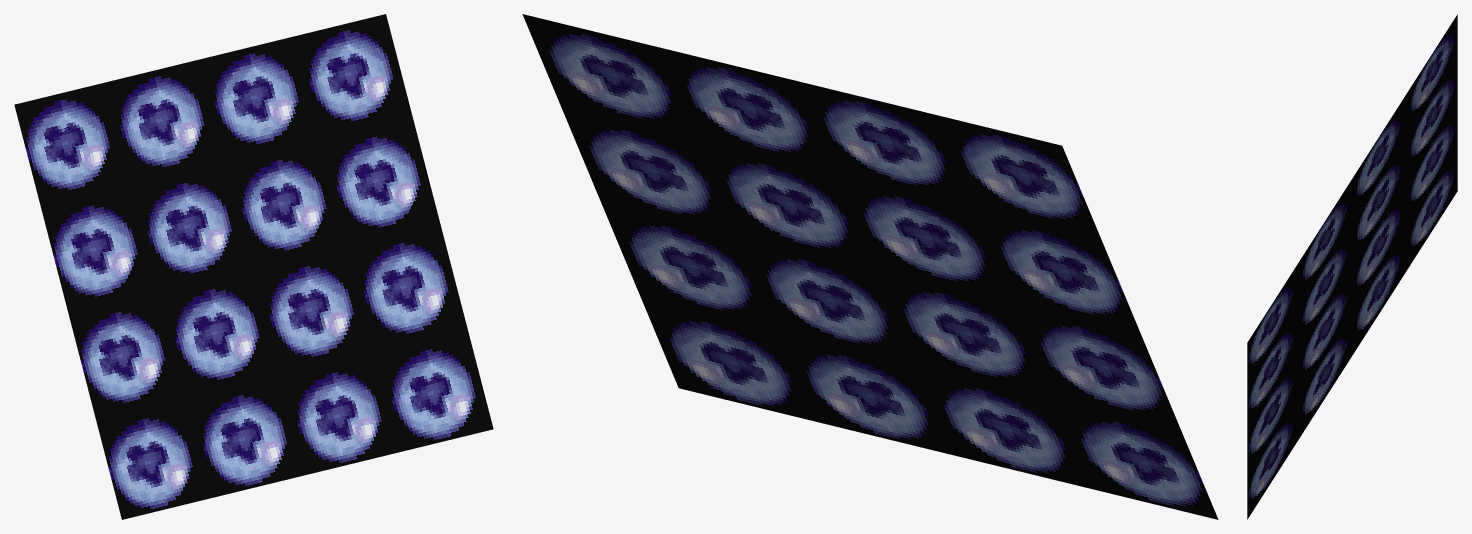
File: 0601mi_blu.gltf
3 renders of one model, left to right at view 1: azimuth 30°, elevation 25°; view 2: azimuth 150°, elevation 25°; view 3: azimuth 270°, elevation 25°, orthographic. The views are drawn at different scales.
Parts seen in each view (by area): view 1: 0601mi_blu; view 2: 0601mi_blu; view 3: 0601mi_blu.
Part boxes in pixels (x1=…): 0601mi_blu: x1=14, y1=14, x2=493, y2=519; 0601mi_blu: x1=522, y1=14, x2=1218, y2=519; 0601mi_blu: x1=1247, y1=14, x2=1457, y2=519.
Bounding box in the file's own units: 0.4395 × 0.3801 × 0.2205.
Materials: 1 (1 with a texture image).
